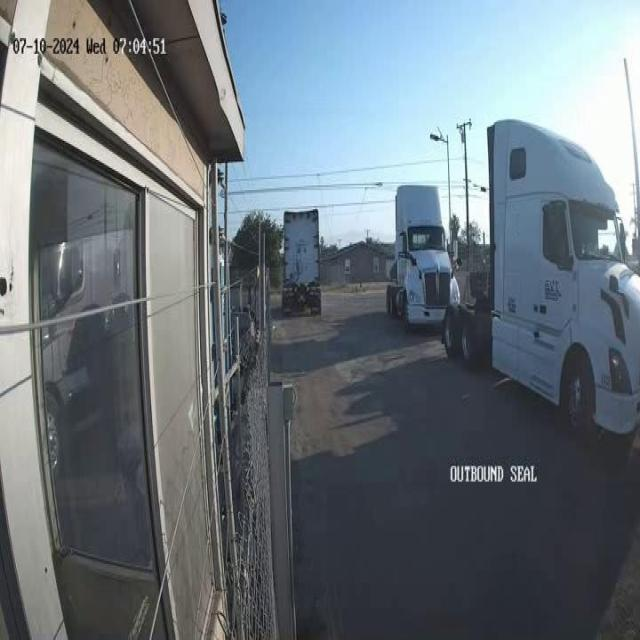TRUCK_IN: (485, 116, 639, 443), (382, 178, 462, 340)
TRUCK_OUT: (278, 200, 328, 319)
